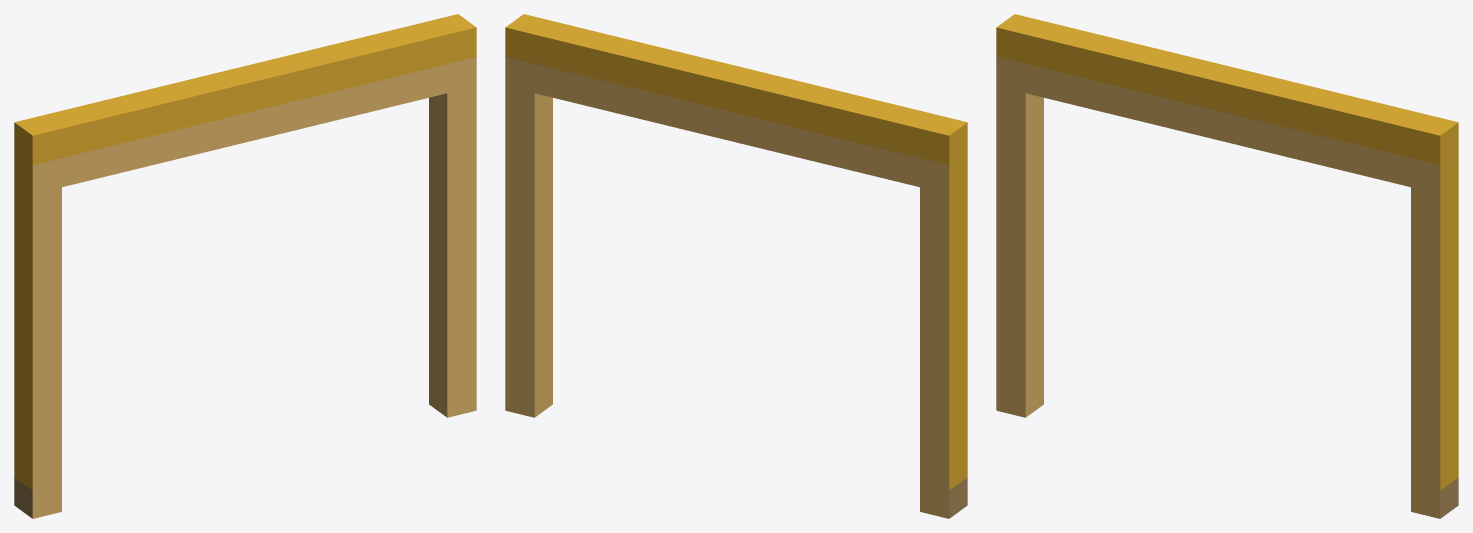
The model's file is EmbrasureGarageDoorGeo.fbx.
3 renders of one model, left to right at view 1: azimuth 30°, elevation 25°; view 2: azimuth 150°, elevation 25°; view 3: azimuth 330°, elevation 25°, orthographic.
Visible parts, largest first — view 1: EmbrasureGarageDoorGeo; view 2: EmbrasureGarageDoorGeo; view 3: EmbrasureGarageDoorGeo.
Boxes of the visible parts, box(x1,y1,x2,y2) form: EmbrasureGarageDoorGeo: box(14, 14, 476, 518); EmbrasureGarageDoorGeo: box(505, 14, 967, 518); EmbrasureGarageDoorGeo: box(996, 14, 1458, 518).
Size of the model in its own units: 606 by 500 by 43.52.
